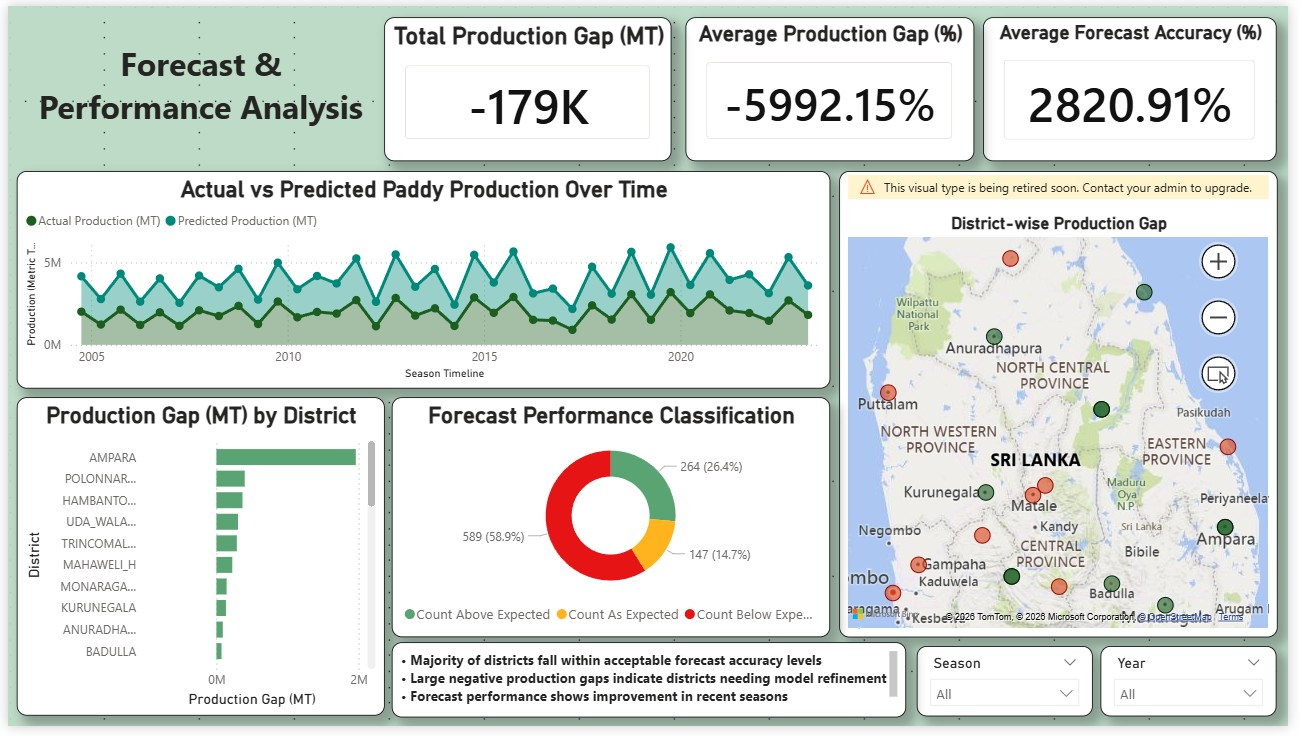

What the dashboard file says about the page in this screenshot:
{"tool":"powerbi","page":{"name":"FORECAST AND PERFORMANCE ANALYSIS ","canvas":[1280,720],"ordinal":2},"visuals":[{"type":"cardVisual","title":"Average Forecast Accuracy (%)","fields":{"Data":["Key Measures.Avg Accuracy (%)"]},"box":[975,11.2,293.8,143.8],"z":0},{"type":"cardVisual","title":"Average Production Gap (%)","fields":{"Data":["Key Measures.Avg Gap (%)"]},"box":[677.5,11.2,288.8,143.8],"z":1000},{"type":"cardVisual","title":"Total Production Gap (MT)","fields":{"Data":["Key Measures.Production Gap (MT)"]},"box":[376.2,11.2,287.5,143.8],"z":2000},{"type":"stackedAreaChart","title":"Actual vs Predicted Paddy Production Over Time","fields":{"Category":["Date_Table.Date"],"Y":["Key Measures.Actual Production (MT)","Key Measures.Predicted Production (MT)"]},"box":[8.6,164.9,813.5,217.8],"z":3000},{"type":"map","title":"District-wise Production Gap","fields":{"Category":["Fact_Production.District"]},"box":[830.8,164.9,438.2,466.5],"z":4000},{"type":"barChart","fields":{"Category":["Fact_Production.District"],"Y":["Key Measures.Production Gap (MT)"]},"box":[8.6,391.4,368,318.8],"z":5000},{"type":"donutChart","title":"Forecast Performance Classification","fields":{"Y":["Key Measures.Count Above Expected","Key Measures.Count As Expected","Key Measures.Count Below Expected"]},"box":[384,391.4,438.2,240],"z":6000},{"type":"slicer","fields":{"Values":["Fact_Production.Season"]},"box":[908.3,640,176,70.2],"z":7000},{"type":"slicer","fields":{"Values":["Date_Table.Year"]},"box":[1092.9,640,176,70.2],"z":8000},{"type":"textbox","box":[384,636.3,514.5,75.1],"z":9000},{"type":"textbox","box":[8.6,30.8,368,124.3],"z":10000}]}

Visuals, with their boxes in screenshot pixels (x1, y1, x2, y2), scaled from the page's 1280x720 canvas onto the 1300x736 screenshot:
"Average Forecast Accuracy (%)" cardVisual: [left=990, top=11, right=1289, bottom=158]
"Average Production Gap (%)" cardVisual: [left=688, top=11, right=981, bottom=158]
"Total Production Gap (MT)" cardVisual: [left=382, top=11, right=674, bottom=158]
"Actual vs Predicted Paddy Production Over Time" stackedAreaChart: [left=9, top=169, right=835, bottom=391]
"District-wise Production Gap" map: [left=844, top=169, right=1289, bottom=645]
barChart - Fact_Production.District x Key Measures.Production Gap (MT): [left=9, top=400, right=382, bottom=726]
"Forecast Performance Classification" donutChart: [left=390, top=400, right=835, bottom=645]
slicer - Fact_Production.Season: [left=922, top=654, right=1101, bottom=726]
slicer - Date_Table.Year: [left=1110, top=654, right=1289, bottom=726]
textbox: [left=390, top=650, right=913, bottom=727]
textbox: [left=9, top=31, right=382, bottom=159]
